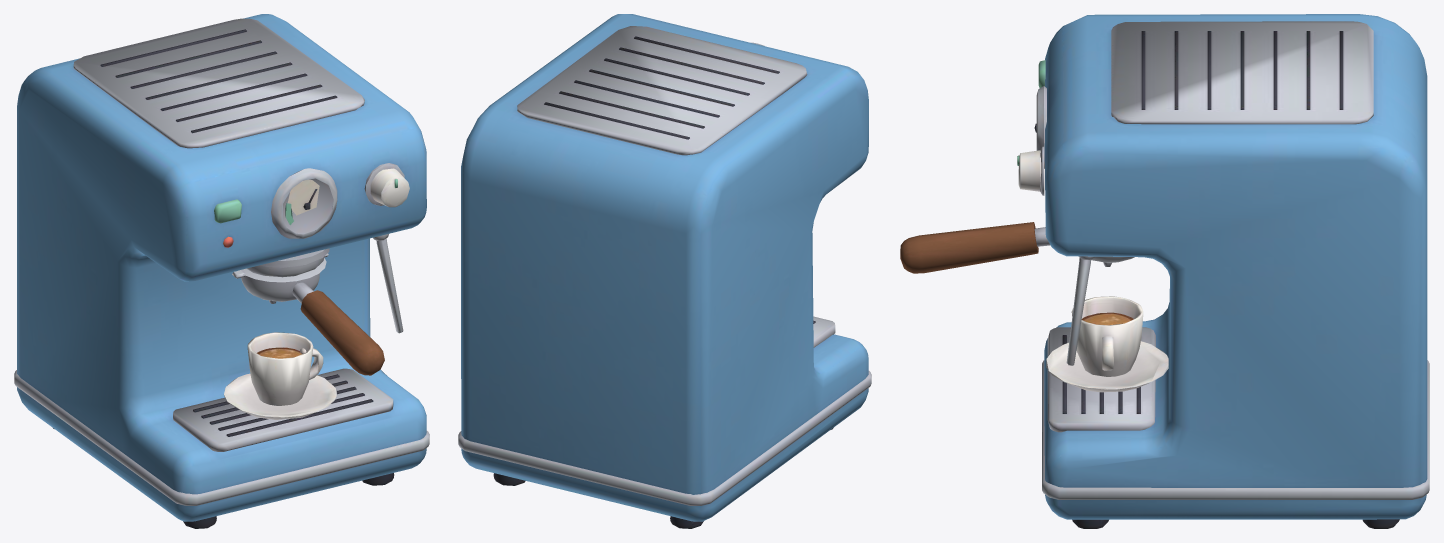
File: g3-coffee-machine-lite.glb
The picture shows the model from 3 angles, left to right: view 1: azimuth 30°, elevation 25°; view 2: azimuth 150°, elevation 25°; view 3: azimuth 270°, elevation 25°; orthographic projection. The views are drawn at different scales.
Parts seen in each view (by area): view 1: coffee-machine_body, coffee-machine_portafilter; view 2: coffee-machine_body; view 3: coffee-machine_body, coffee-machine_portafilter.
Part boxes in pixels (x1=…): coffee-machine_body: x1=14, y1=14, x2=429, y2=528; coffee-machine_portafilter: x1=232, y1=253, x2=384, y2=375; coffee-machine_body: x1=458, y1=14, x2=871, y2=528; coffee-machine_body: x1=1017, y1=14, x2=1429, y2=528; coffee-machine_portafilter: x1=900, y1=222, x2=1134, y2=273.
Size of the model in its own units: 0.2437 by 0.3385 by 0.4011.
Materials: 2 (2 with a texture image).
